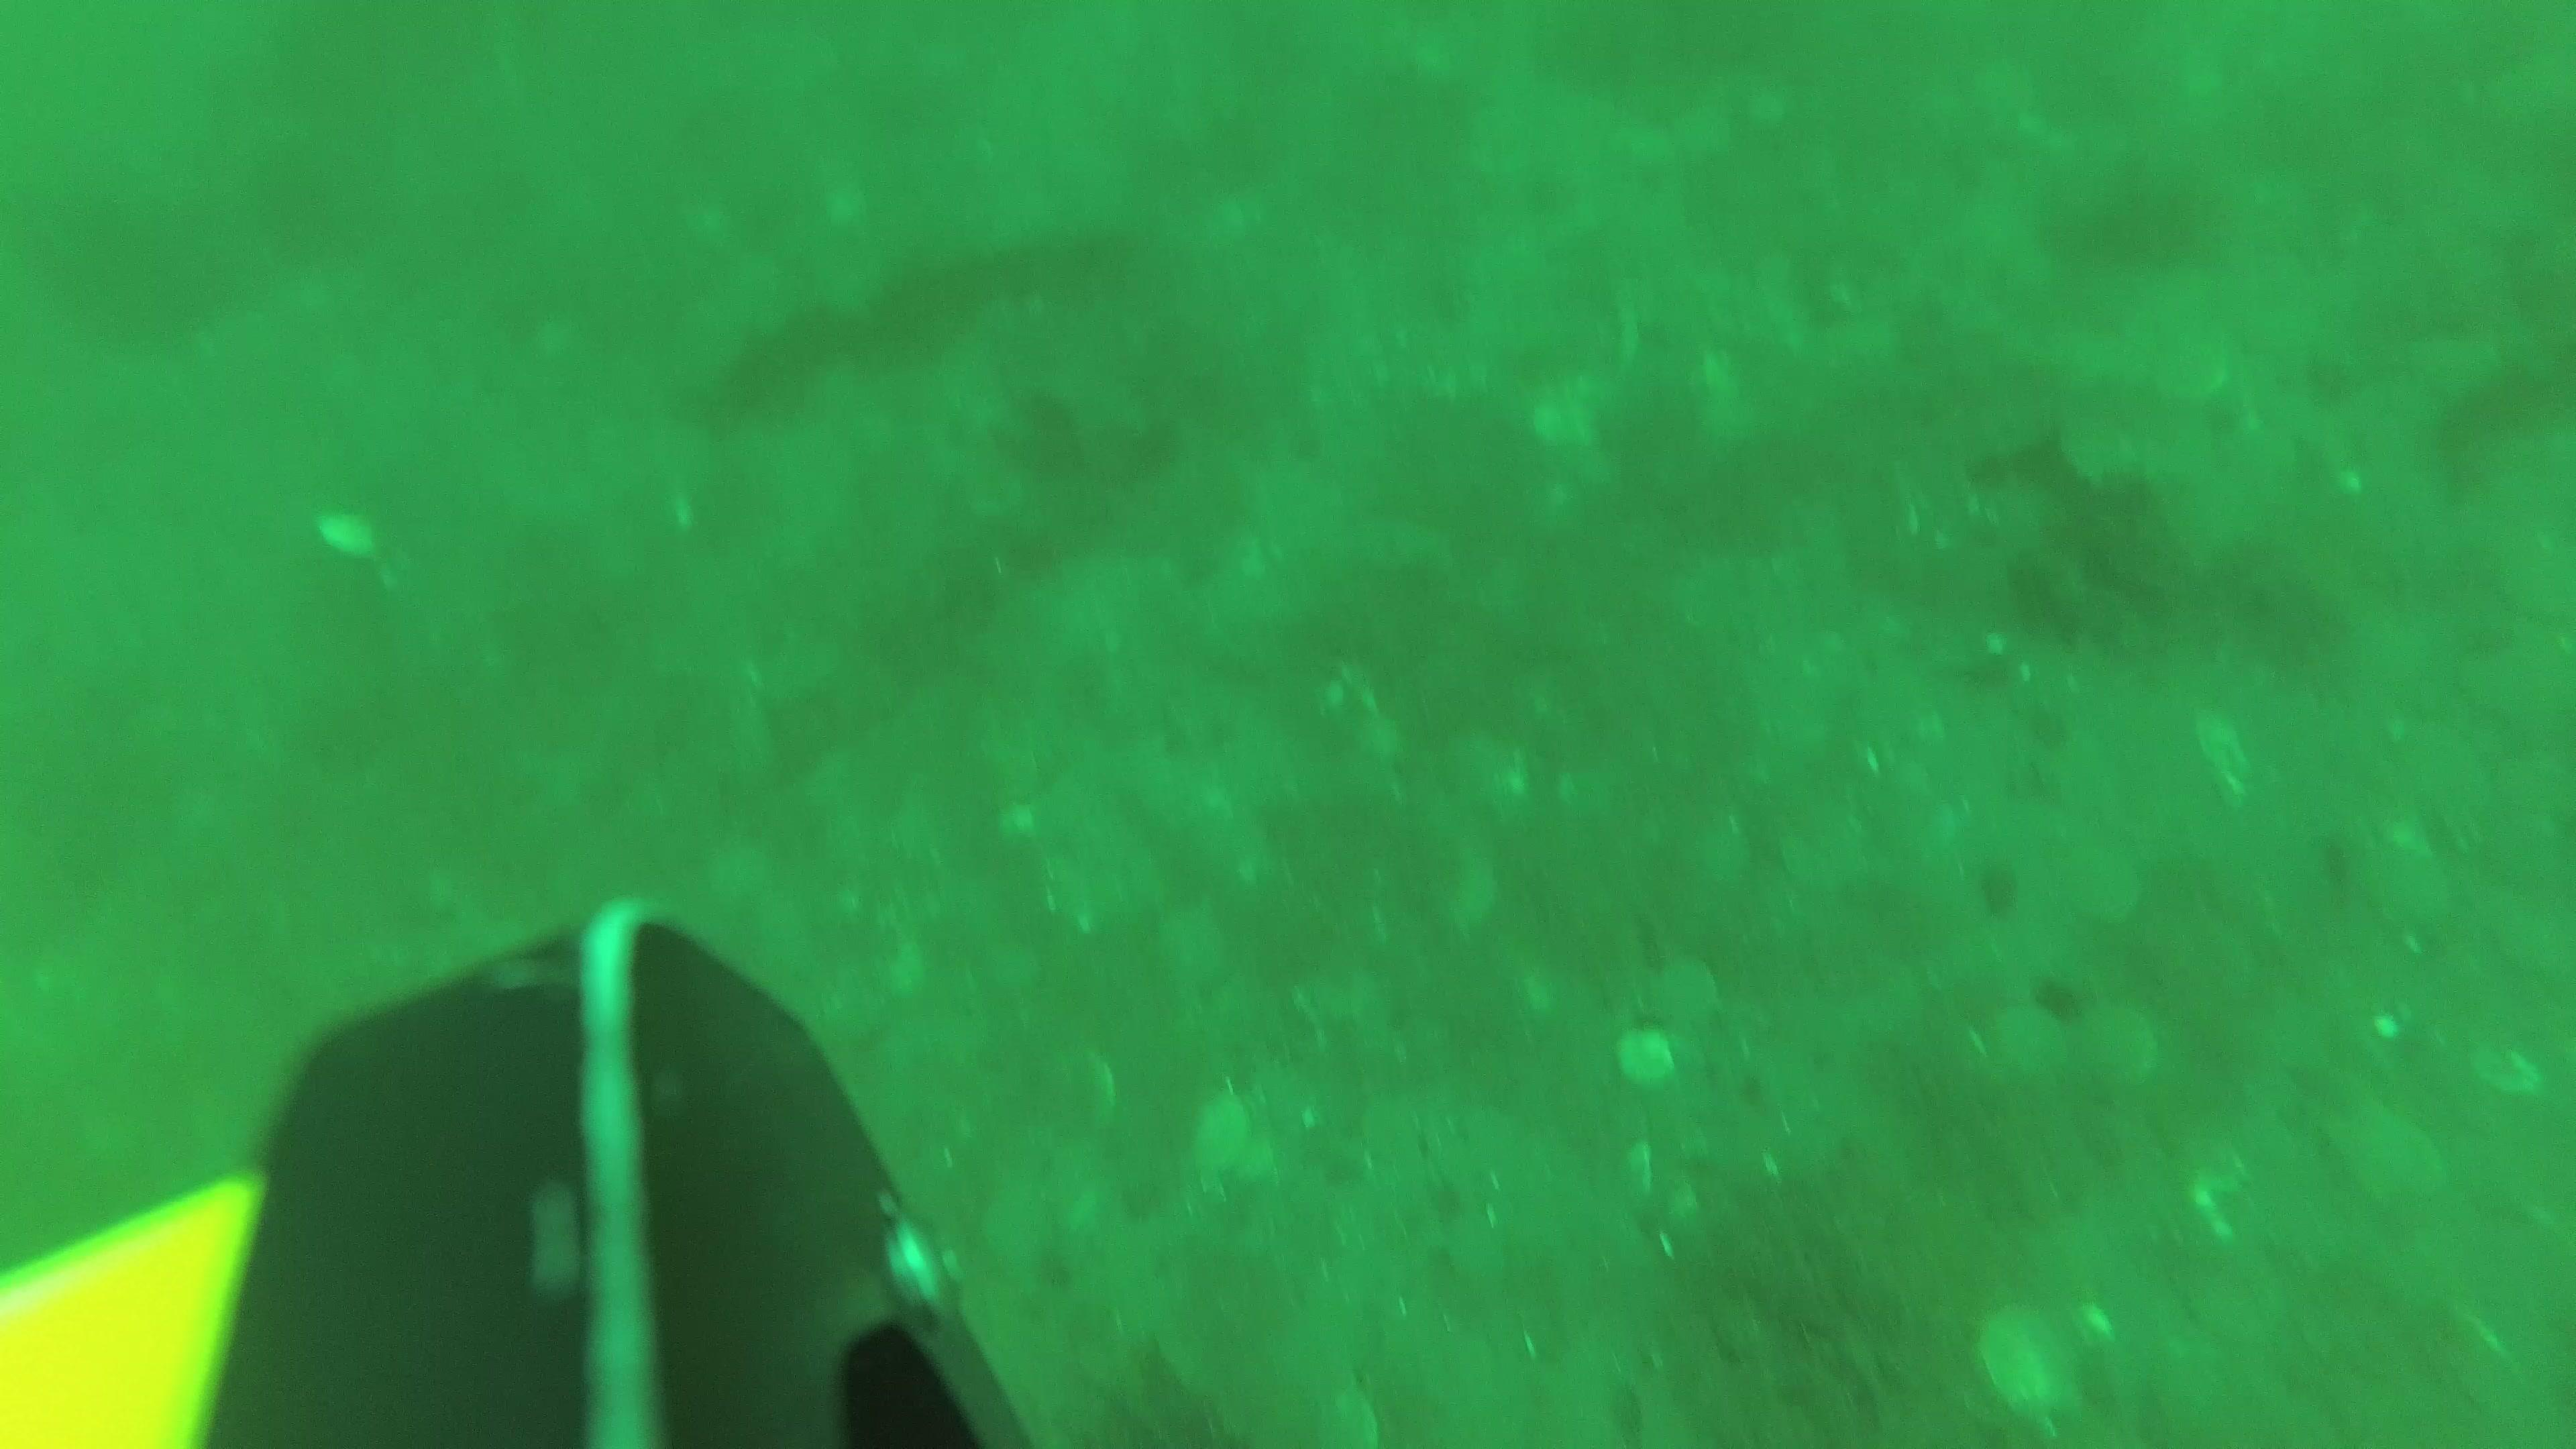scallop: (1976, 1293, 2088, 1421), (2328, 1095, 2445, 1212), (1982, 985, 2070, 1097), (2401, 722, 2495, 823), (2358, 832, 2452, 931), (2054, 837, 2150, 931), (1778, 803, 1870, 901), (2074, 1001, 2164, 1092), (1039, 1046, 1125, 1136), (971, 1189, 1058, 1272), (1644, 945, 1725, 1030), (1155, 901, 1231, 989), (1615, 1021, 1681, 1092), (311, 502, 379, 564)
